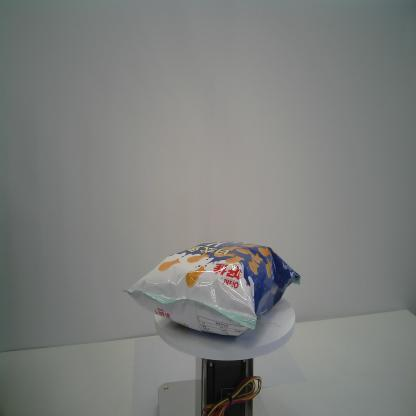Puffed Food: (122, 240, 301, 337)
